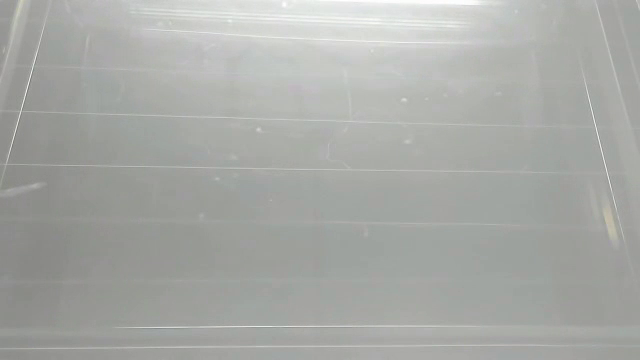alpha: (1, 180, 48, 200)
